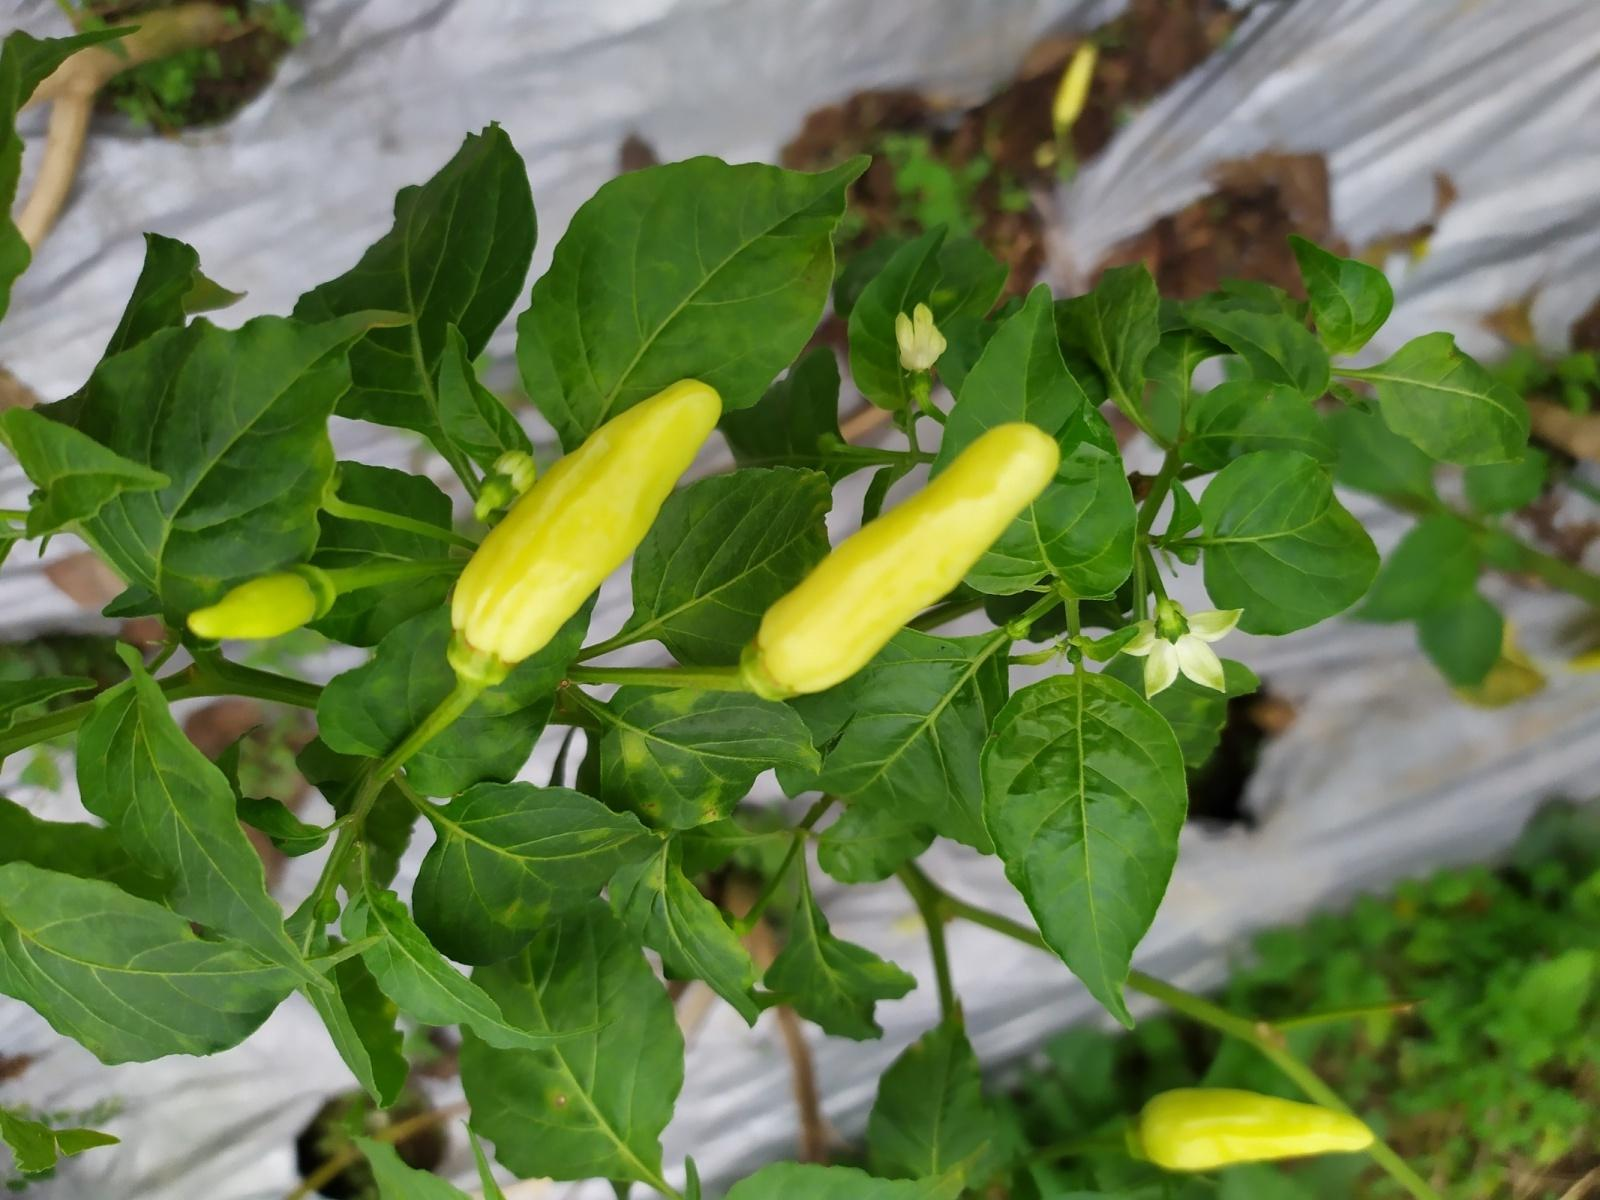cabai_normal: (755, 424, 1062, 696), (451, 378, 723, 668), (1135, 1089, 1377, 1174), (186, 571, 323, 640)
